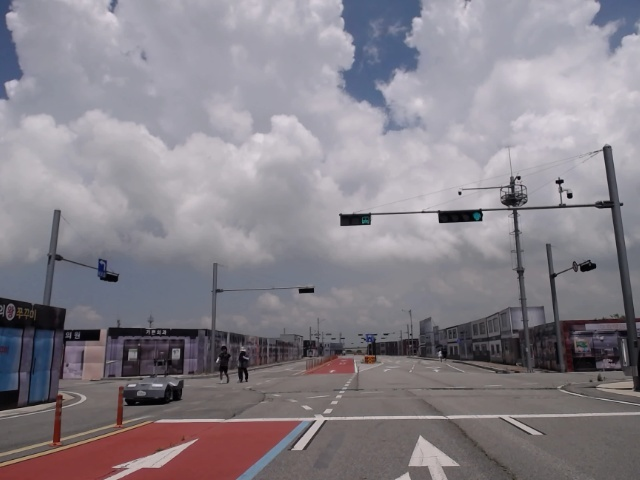straight_green_4: (436, 209, 483, 222)
